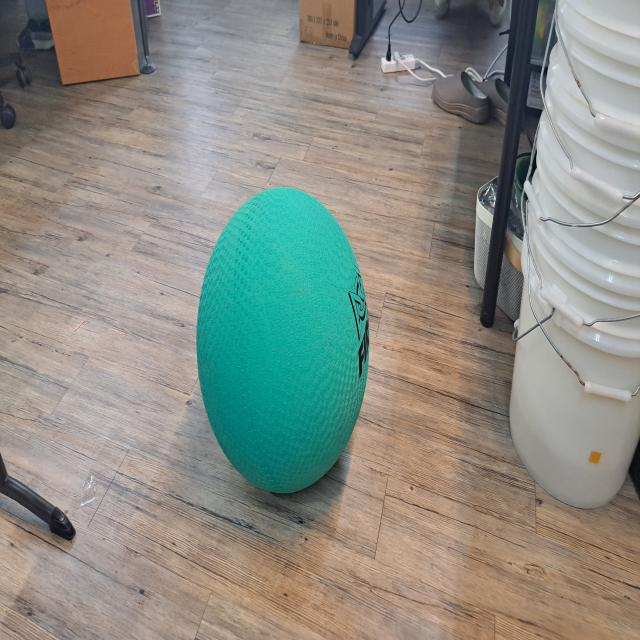ALGAE: (194, 182, 372, 496)
